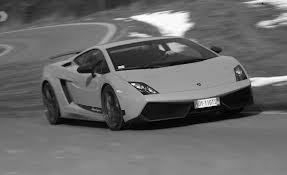car: (36, 35, 259, 136)
